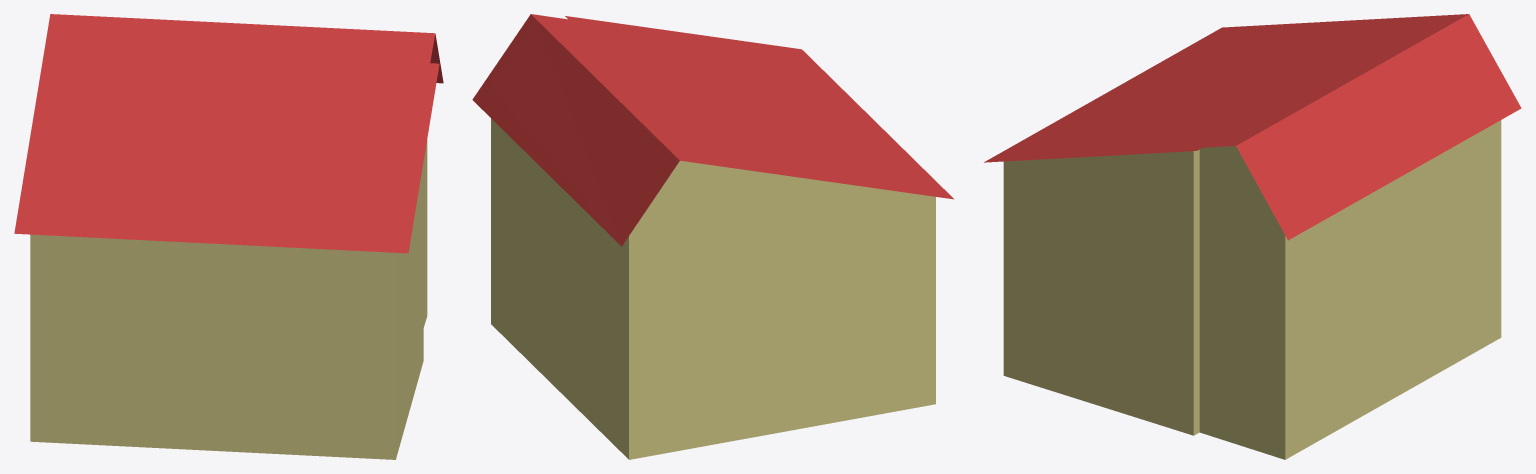
3 views of the same model, side by side, from view 1: azimuth 30°, elevation 25°; view 2: azimuth 150°, elevation 25°; view 3: azimuth 270°, elevation 25° (orthographic). The views are drawn at different scales.
Size of the model in its own units: 18.42 by 18.49 by 11.59.
